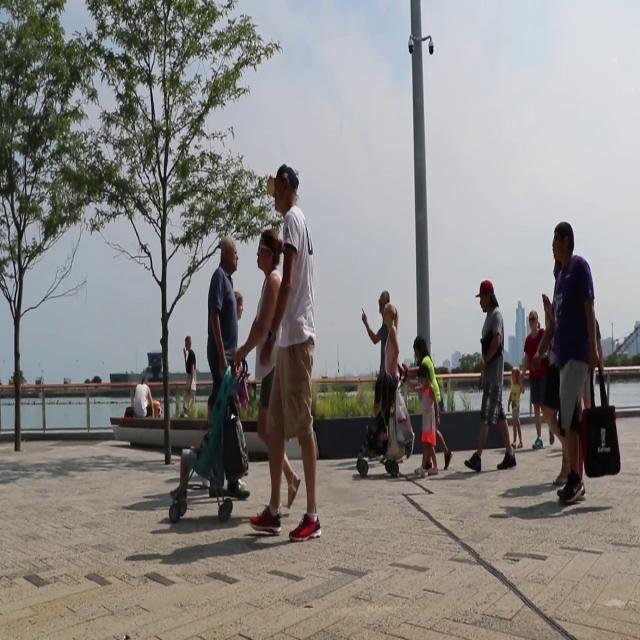normal: (254, 160, 318, 546), (546, 215, 604, 518), (462, 279, 522, 477), (206, 228, 246, 500), (411, 330, 442, 474)
